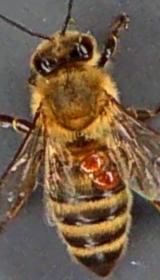varroa_mite: (75, 150, 112, 170), (90, 169, 118, 192)
